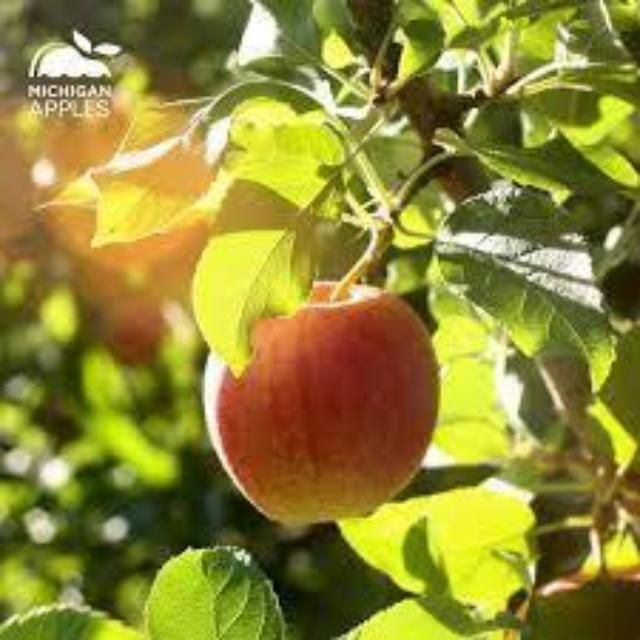apple: (205, 282, 438, 523)
